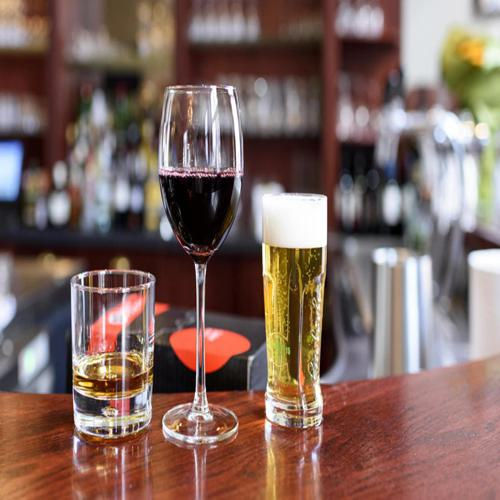copa: (158, 86, 242, 443)
vaso: (262, 195, 324, 429), (70, 269, 152, 438)
